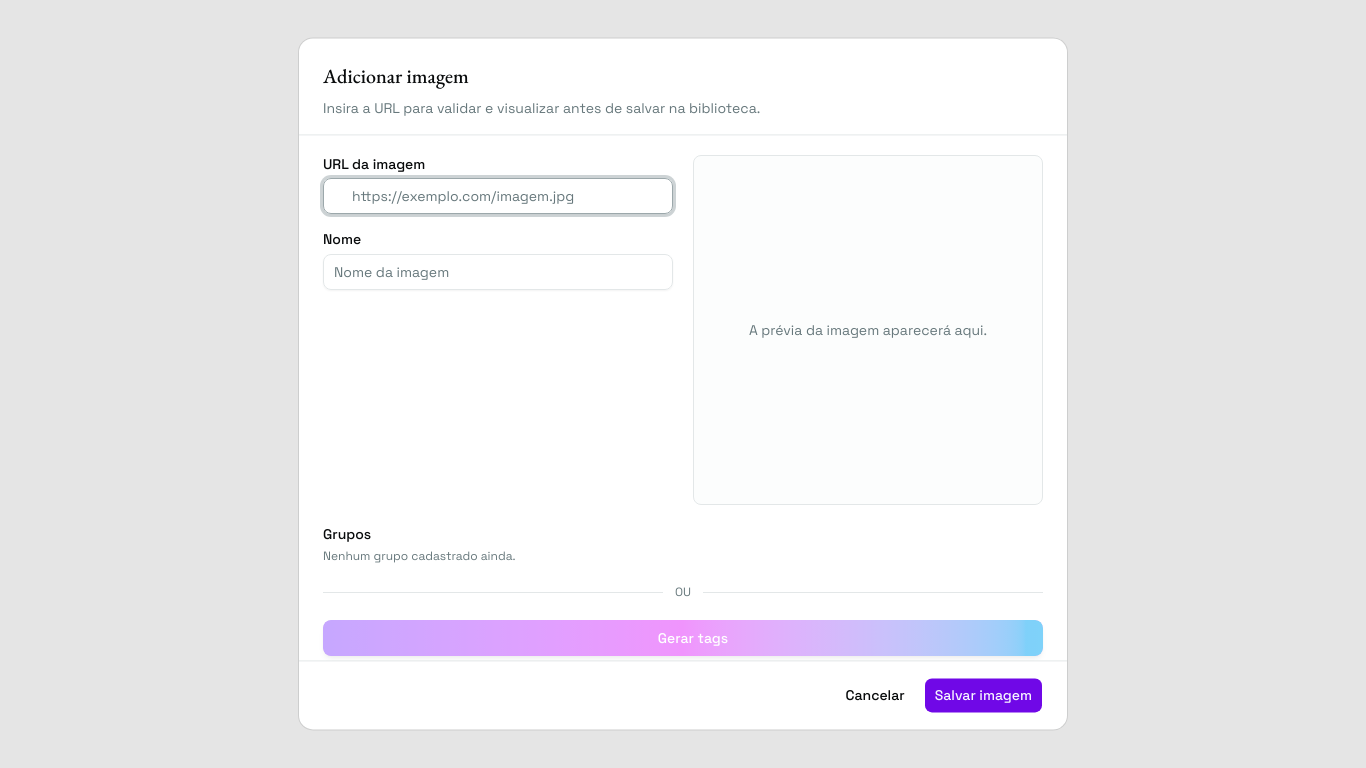
Test: AddImageModal › shows an error when remote image validation fails
Expected: the dialog is shown, [299,38,1067,730]
Type "https://example.com/pic.jpg" into the field labelled "URL da imagem" at (509, 197), box [346,179,672,215]
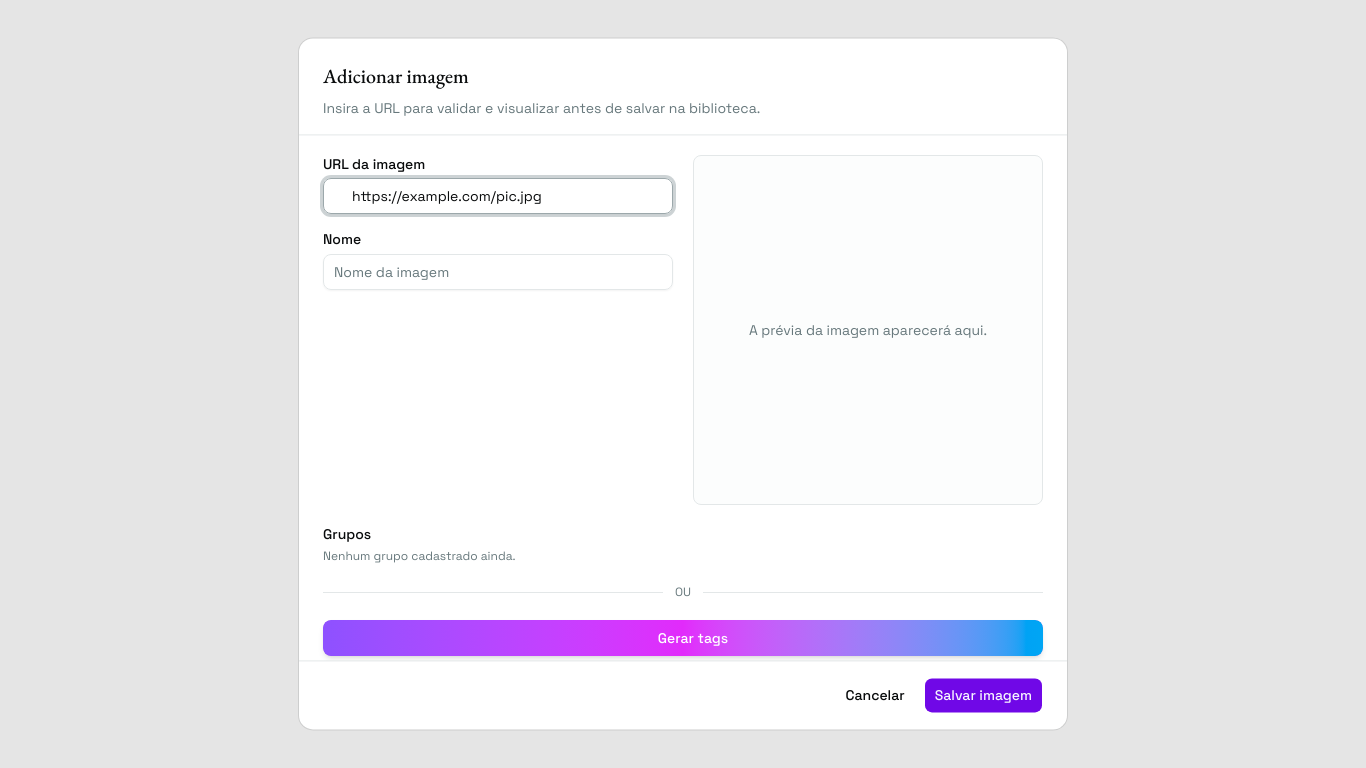
Type "My pic" into the field labelled "Nome" at (498, 272), box [323,254,673,290]
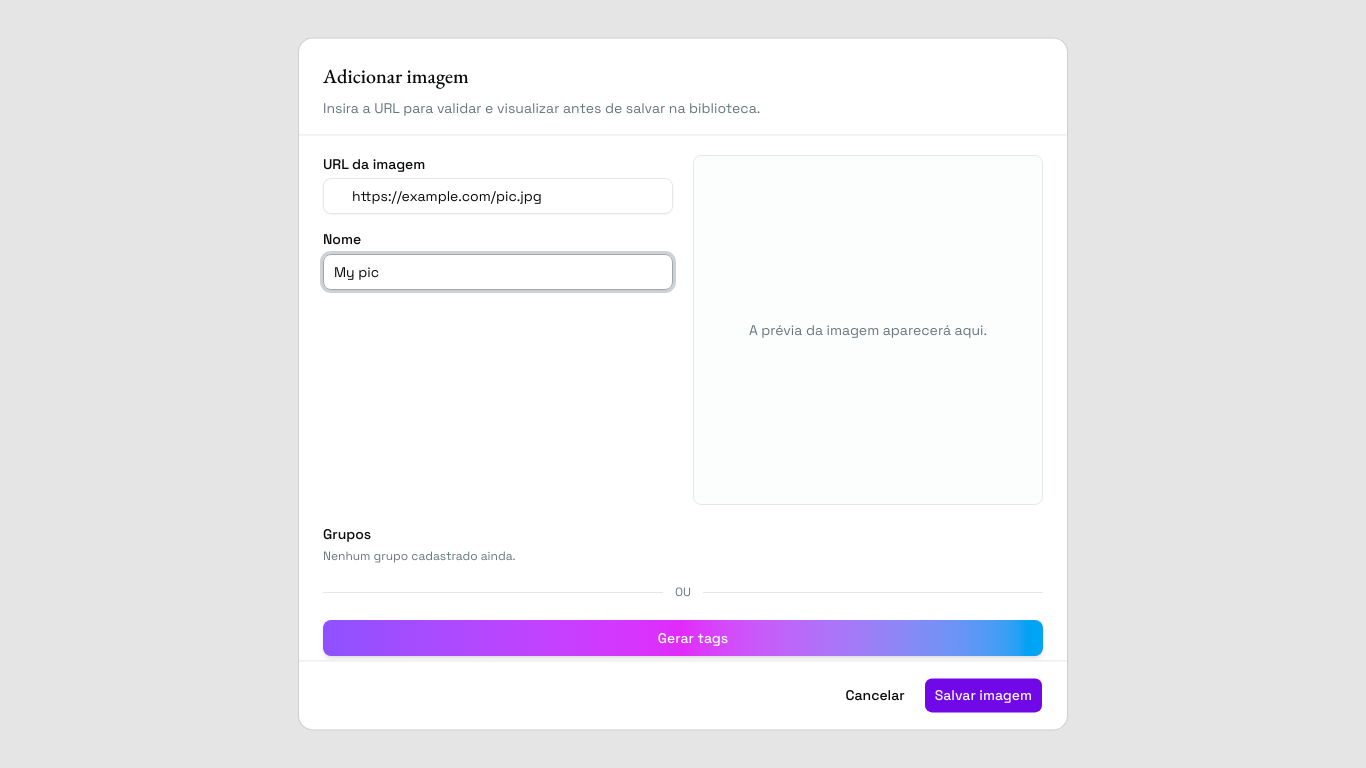
Click the button "Salvar imagem" at (983, 696), box [924,678,1043,714]
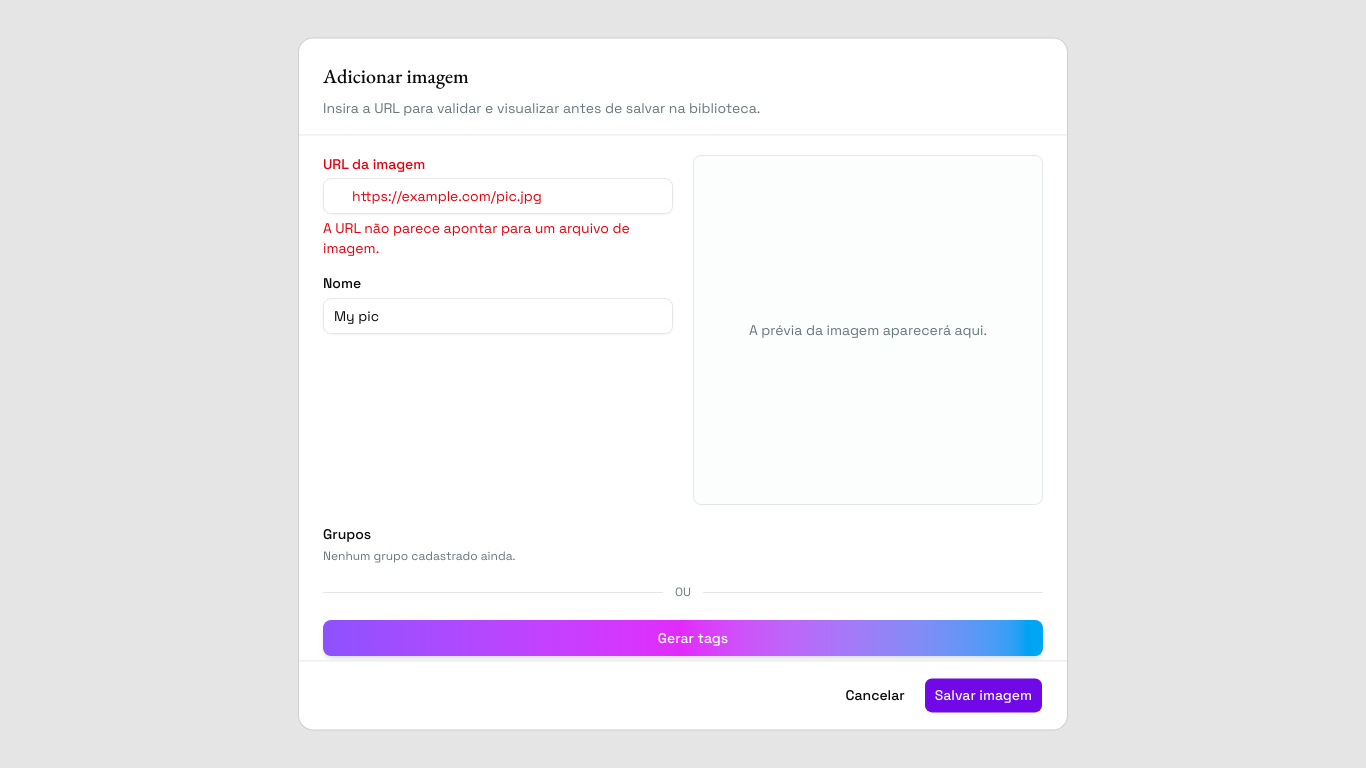
Expected: the text "A URL não parece apontar para um arquivo de imagem." is shown, [323,219,673,259]
